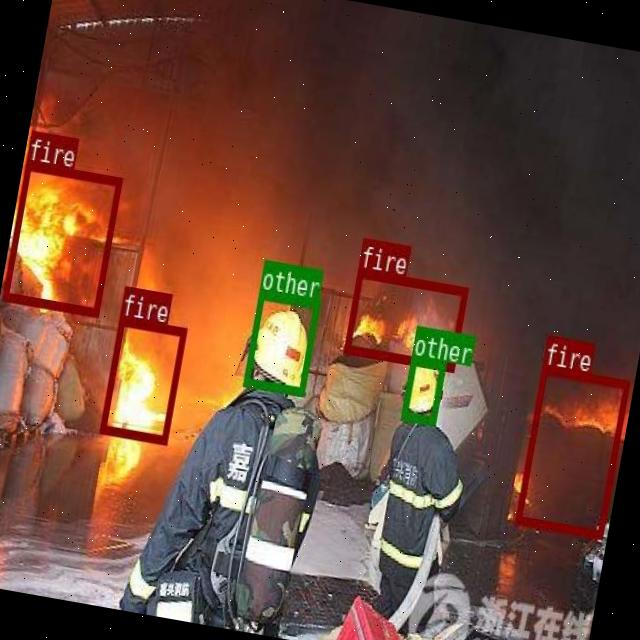fire: (514, 364, 629, 537), (1, 158, 121, 316), (342, 266, 467, 370), (98, 315, 186, 444)
